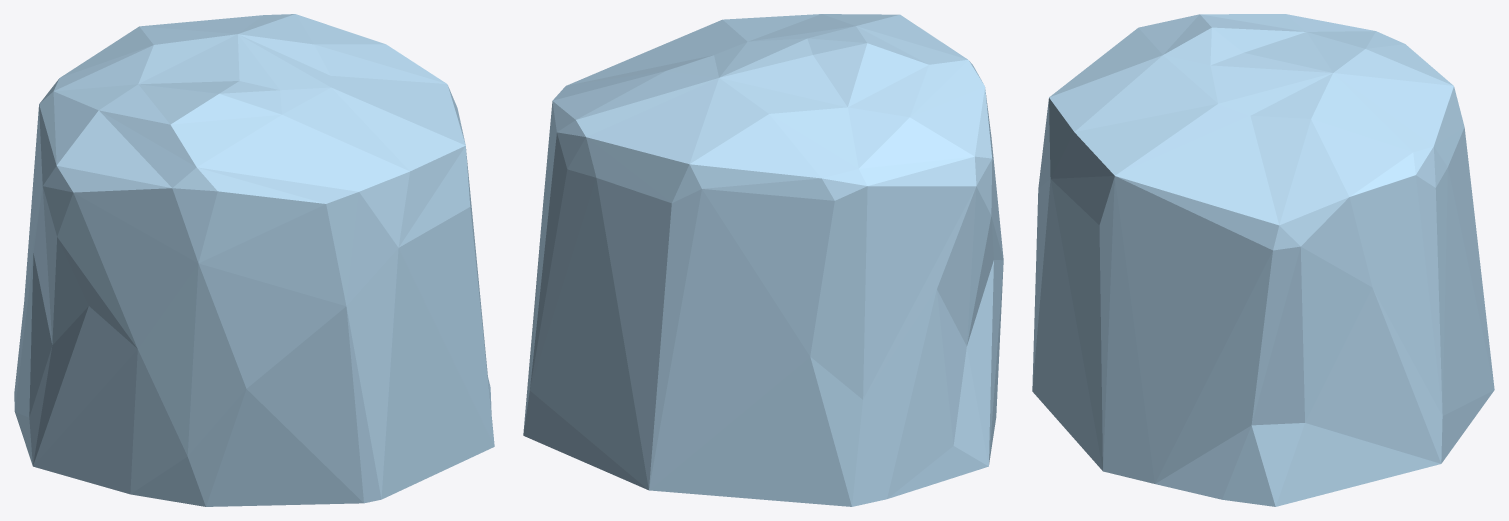
Rendered from PROP_Ice_FloorS02.FBX.
3 views of the same model, side by side, from view 1: azimuth 30°, elevation 25°; view 2: azimuth 150°, elevation 25°; view 3: azimuth 270°, elevation 25° (orthographic). The views are drawn at different scales.
Parts seen in each view (by area): view 1: PROP_Ice_FloorS02; view 2: PROP_Ice_FloorS02; view 3: PROP_Ice_FloorS02.
Boxes of the visible parts, x1,y1,x2,y2 form: PROP_Ice_FloorS02: [14, 14, 494, 506]; PROP_Ice_FloorS02: [523, 14, 1003, 506]; PROP_Ice_FloorS02: [1032, 14, 1494, 506].
Size of the model in its own units: 450 by 348 by 423.
Materials: 1 (1 with a texture image).
